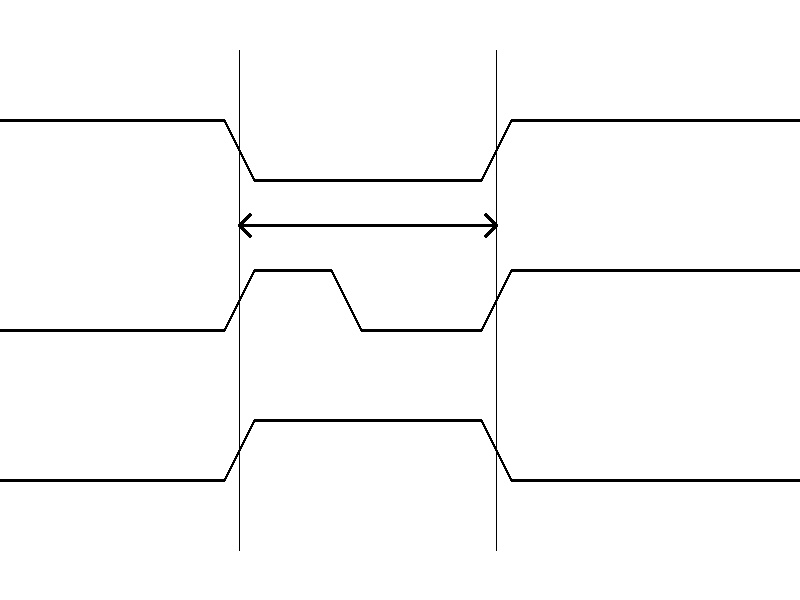double_arrow: (239, 210, 496, 240)
